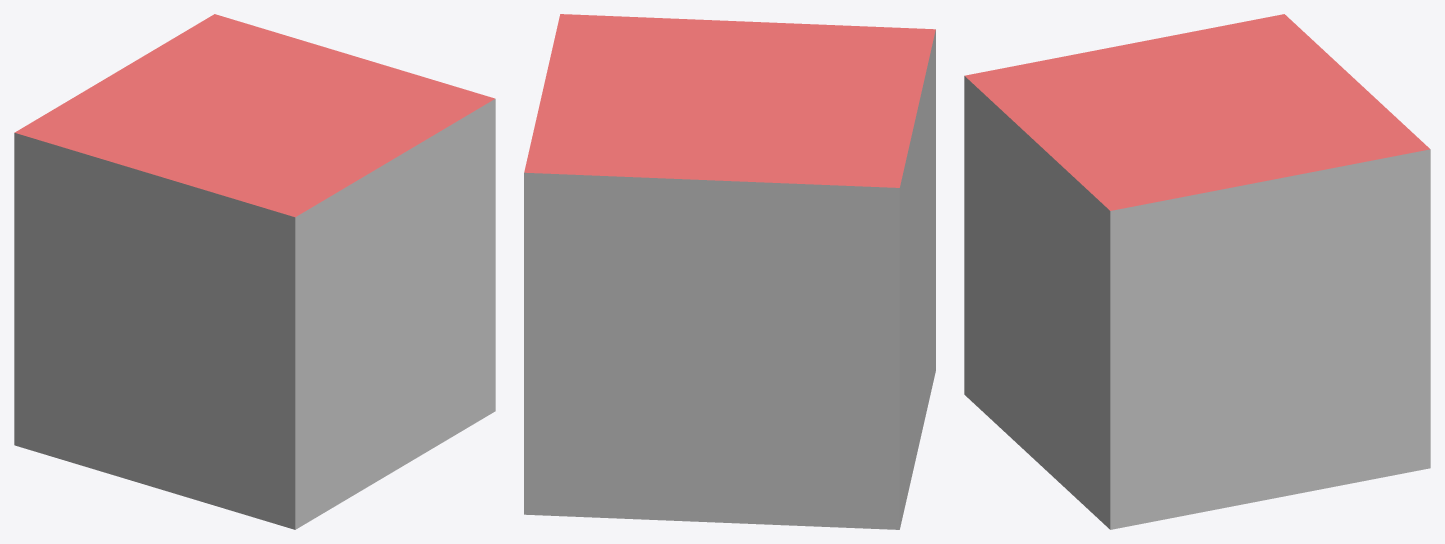
The model's file is ID_532b4030-b493-40ea-87f0-23feac7147bf.gltf.
The picture shows the model from 3 angles, left to right: view 1: azimuth 30°, elevation 25°; view 2: azimuth 150°, elevation 25°; view 3: azimuth 270°, elevation 25°; orthographic projection. The views are drawn at different scales.
Parts seen in each view (by area): view 1: Z_UP; view 2: Z_UP; view 3: Z_UP.
Part boxes in pixels (box(x1,y1,x2,y2)): Z_UP: box(14, 14, 495, 529); Z_UP: box(524, 14, 935, 529); Z_UP: box(964, 14, 1430, 529).
Size of the model in its own units: 17.22 by 13 by 17.22.
